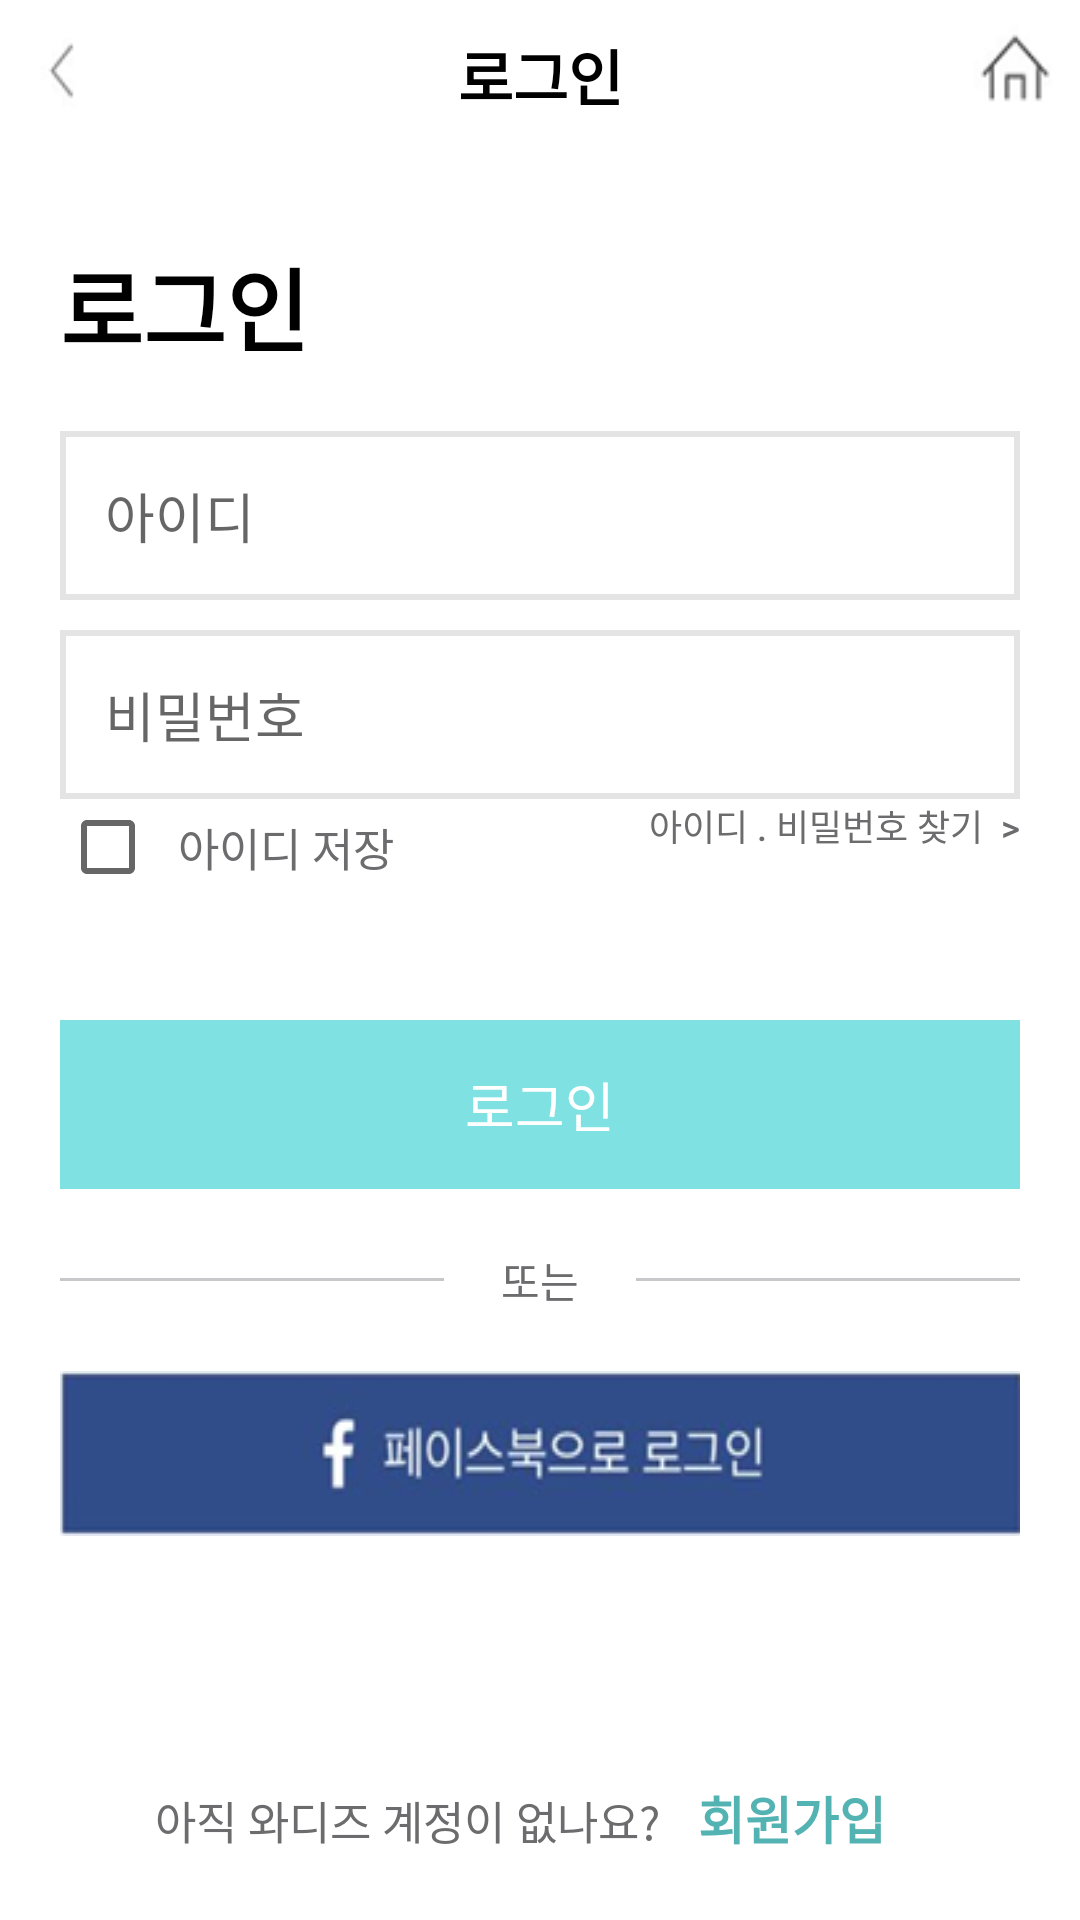

Screen size 1080 x 1920. Icon name, then its center in pixels as (x,y):
back: (61,71)
home: (1015,68)
